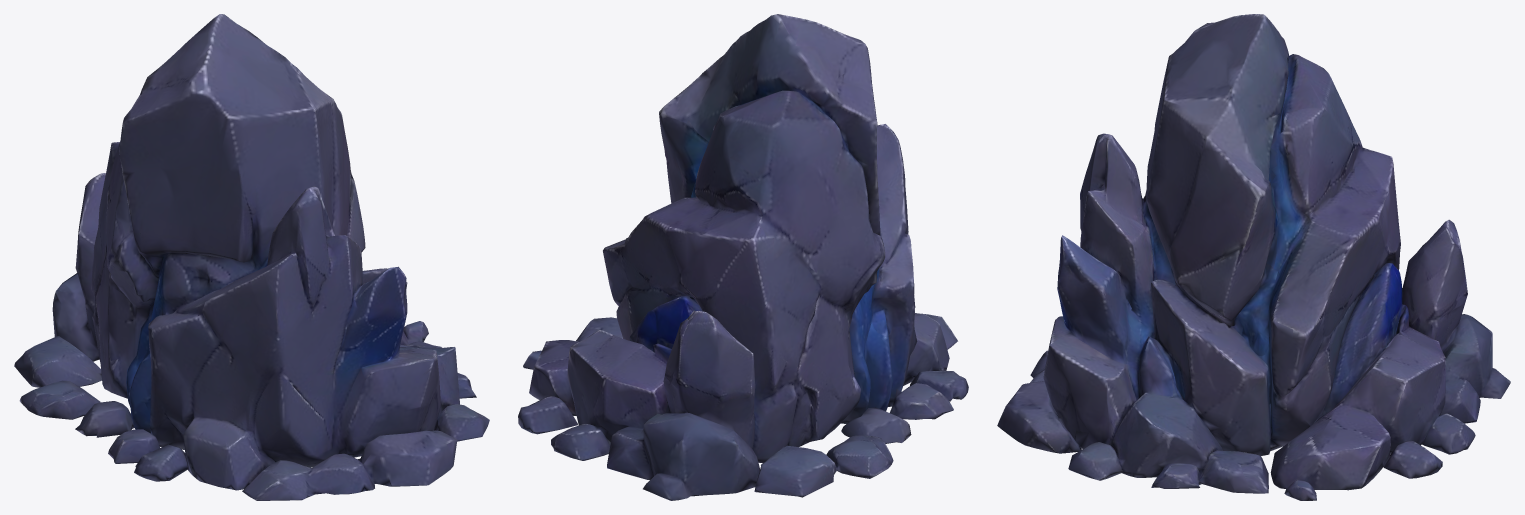
The model's file is iwa.glb.
The picture shows the model from 3 angles, left to right: view 1: azimuth 30°, elevation 25°; view 2: azimuth 150°, elevation 25°; view 3: azimuth 270°, elevation 25°; orthographic projection. The views are drawn at different scales.
Parts seen in each view (by area): view 1: tripo_node_ceaf9245-78be-47a5-9847-e37ed3e201b7; view 2: tripo_node_ceaf9245-78be-47a5-9847-e37ed3e201b7; view 3: tripo_node_ceaf9245-78be-47a5-9847-e37ed3e201b7.
Part boxes in pixels (left/top/right/bottom): tripo_node_ceaf9245-78be-47a5-9847-e37ed3e201b7: left=14, top=14, right=489, bottom=500; tripo_node_ceaf9245-78be-47a5-9847-e37ed3e201b7: left=518, top=14, right=968, bottom=500; tripo_node_ceaf9245-78be-47a5-9847-e37ed3e201b7: left=997, top=14, right=1510, bottom=500.
Bounding box in the file's own units: 0.8292 × 0.8183 × 1.
Materials: 1 (1 with a texture image).
